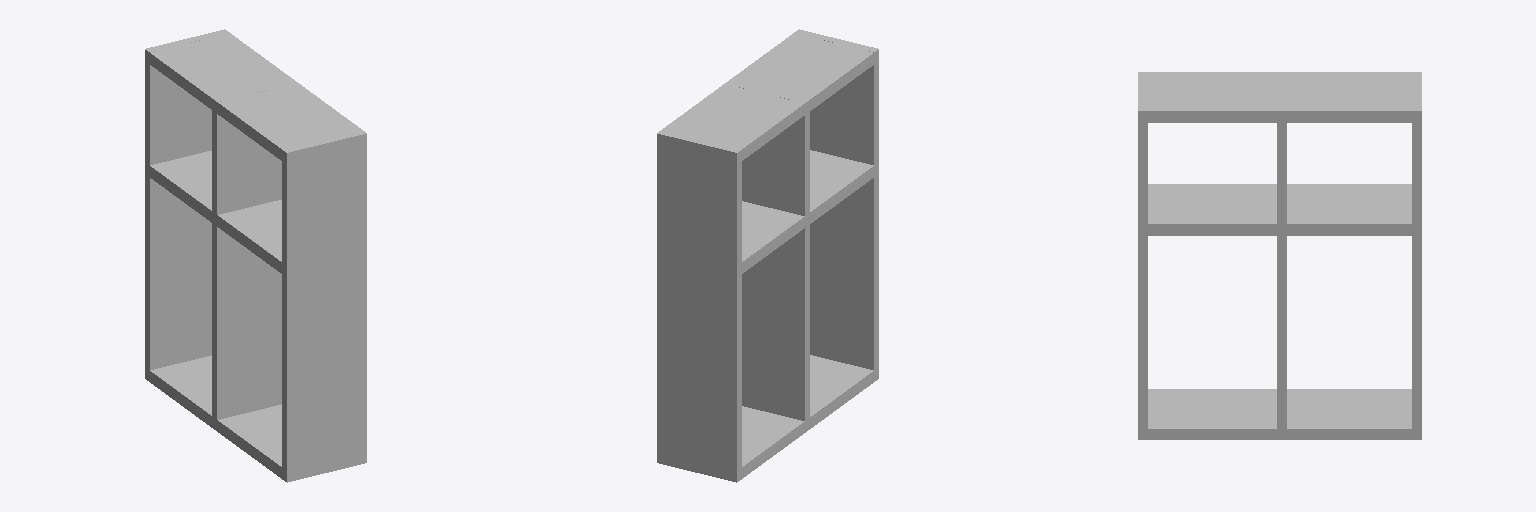
Rendered from window.obj.
3 views of the same model, side by side, from view 1: azimuth 30°, elevation 25°; view 2: azimuth 150°, elevation 25°; view 3: azimuth 270°, elevation 25° (orthographic).
Parts seen in each view (by area): view 1: Cube; view 2: Cube; view 3: Cube.
Part boxes in pixels (left/top/right/bottom): Cube: left=145, top=29, right=366, bottom=482; Cube: left=657, top=29, right=878, bottom=482; Cube: left=1138, top=72, right=1421, bottom=439.
Bounding box in the file's own units: 0.3294 × 1.29 × 1.01.